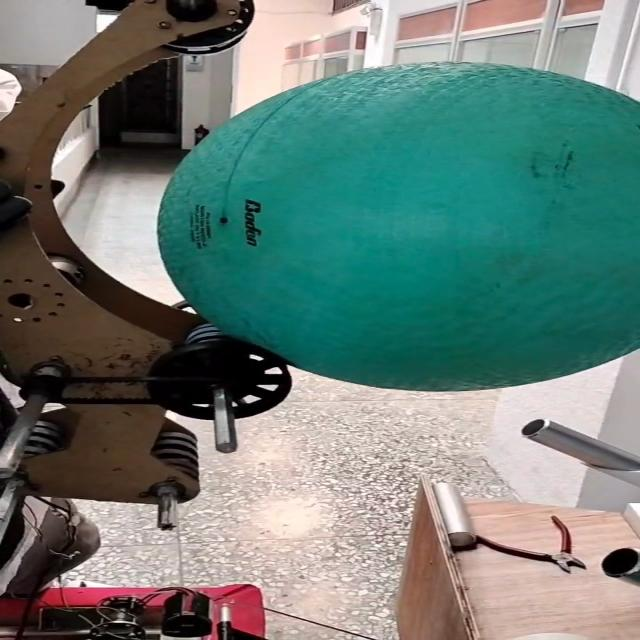ALGAE: (151, 60, 640, 394)
